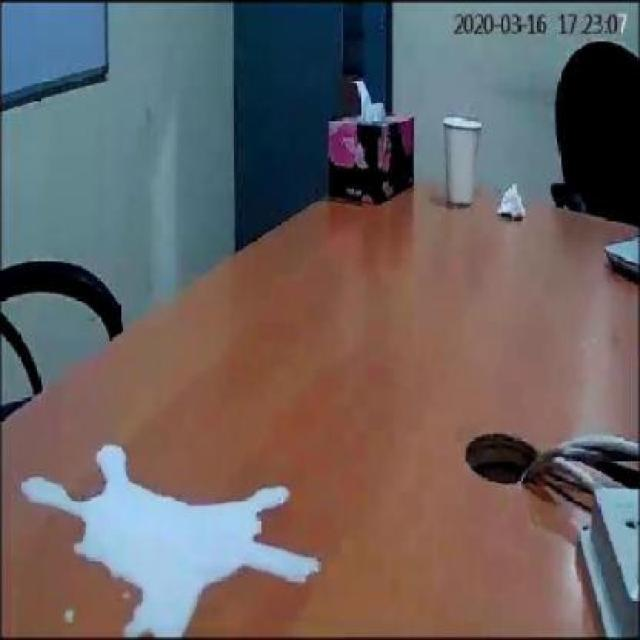spillage: (17, 445, 320, 638)
